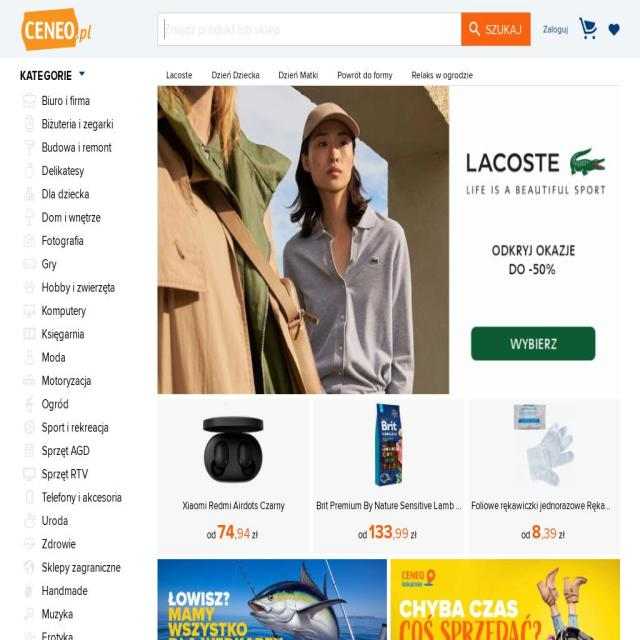button: (158, 399, 310, 554), (313, 399, 465, 554), (468, 399, 620, 554), (20, 89, 158, 113), (20, 112, 158, 136), (20, 159, 158, 183), (20, 182, 158, 206), (20, 229, 158, 253), (20, 252, 158, 276), (20, 299, 158, 323), (20, 322, 158, 346), (20, 369, 158, 393), (20, 392, 158, 416), (20, 439, 158, 463), (20, 462, 158, 486), (20, 509, 158, 533), (20, 532, 158, 556), (20, 579, 158, 603), (20, 602, 158, 626), (20, 6, 92, 52), (20, 136, 158, 159), (20, 206, 158, 229), (20, 276, 158, 299), (20, 346, 158, 369), (20, 416, 158, 439), (20, 486, 158, 509), (20, 556, 158, 579), (461, 12, 531, 46), (20, 626, 158, 640), (578, 29, 598, 43)
field: (158, 13, 462, 45)
heading: (20, 67, 75, 85)
image: (158, 86, 620, 395), (157, 558, 387, 640), (391, 558, 620, 640), (202, 403, 264, 488), (513, 403, 575, 488), (374, 403, 404, 488)
link: (316, 498, 462, 514), (471, 498, 617, 514), (161, 498, 306, 514), (543, 22, 568, 36)
text: (403, 67, 482, 86), (329, 67, 401, 86), (203, 67, 268, 86), (270, 67, 327, 86), (158, 67, 202, 86), (369, 516, 393, 546), (217, 516, 234, 546), (486, 23, 522, 37), (392, 522, 410, 543), (234, 522, 250, 543), (542, 522, 558, 543), (532, 516, 542, 546), (206, 526, 216, 542), (358, 526, 368, 542), (521, 526, 531, 542), (410, 526, 418, 542), (558, 526, 566, 542), (251, 526, 258, 542)
